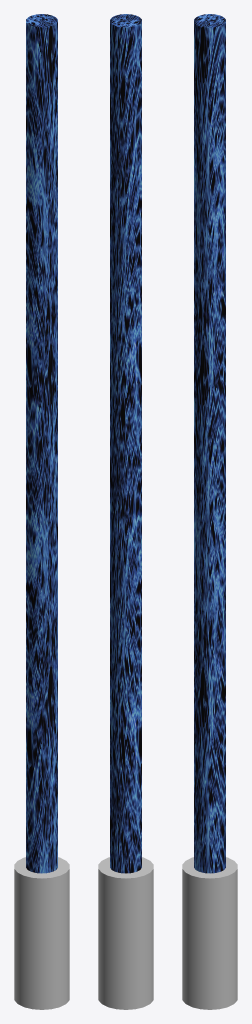
Rendered from sword.obj.
3 renders of one model, left to right at view 1: azimuth 30°, elevation 25°; view 2: azimuth 150°, elevation 25°; view 3: azimuth 330°, elevation 25°, orthographic.
Parts seen in each view (by area): view 1: Cylinder002, Cylinder001; view 2: Cylinder002, Cylinder001; view 3: Cylinder002, Cylinder001.
Boxes of the visible parts, bbox=[...] form: Cylinder002: bbox=[26, 14, 57, 873]; Cylinder001: bbox=[14, 857, 69, 1009]; Cylinder002: bbox=[110, 14, 141, 873]; Cylinder001: bbox=[98, 857, 153, 1009]; Cylinder002: bbox=[194, 14, 225, 873]; Cylinder001: bbox=[182, 857, 237, 1009].
Bounding box in the file's own units: 0.2707 × 5.2 × 0.2666.
